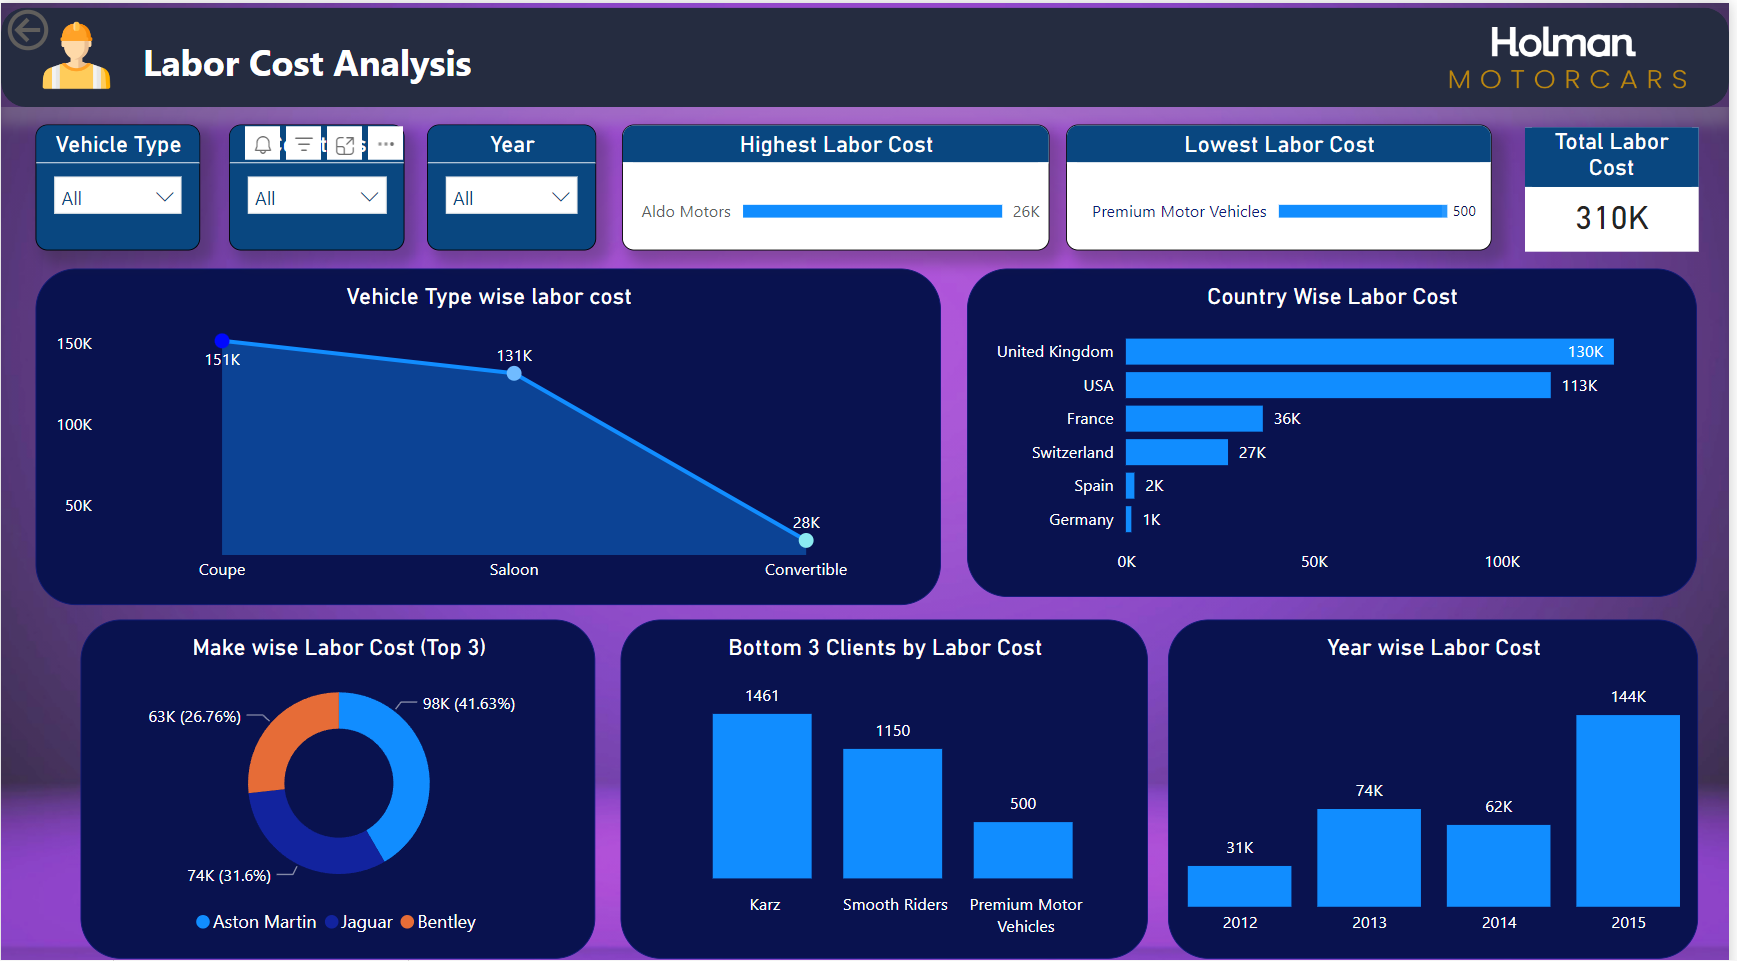

The page's visual inventory and layout, read from the dashboard file:
{"tool":"powerbi","page":{"name":"Labor Cost Analysis","canvas":[1280,720],"ordinal":2},"visuals":[{"type":"clusteredBarChart","title":"Country Wise Labor Cost","fields":{"Category":["BaseData.CountryName"],"Y":["BaseData.LaborCost"]},"box":[715.2,197.1,540.4,243.2],"z":0},{"type":"shape","box":[0,3.8,1280,73.8],"z":1000},{"type":"areaChart","title":"Vehicle Type wise labor cost","fields":{"Y":["BaseData.LaborCost"],"Category":["BaseData.VehicleType"]},"box":[25.4,197.1,670.7,249.5],"z":2000},{"type":"donutChart","title":"Make wise Labor Cost (Top 3)","fields":{"Y":["BaseData.LaborCost"],"Category":["BaseData.Make"]},"box":[58.8,456.2,381.5,251.1],"z":3000},{"type":"image","box":[25.7,4.3,60,68.6],"z":4000},{"type":"textbox","box":[100,20,300,70],"z":5000},{"type":"columnChart","title":"Year wise Labor Cost","fields":{"Category":["BaseData.ReportingYear"],"Y":["BaseData.LaborCost"]},"box":[864.6,456.2,392.6,251.1],"z":6000},{"type":"image","box":[1064.3,10,191.4,60],"z":7000},{"type":"slicer","title":"Vehicle Type","fields":{"Values":["BaseData.VehicleType"]},"box":[25,90,121.7,93.3],"z":8000},{"type":"slicer","title":"Countries","fields":{"Values":["BaseData.CountryName"]},"box":[168.3,90,130,93.3],"z":9000},{"type":"slicer","title":"Year","fields":{"Values":["BaseData.ReportingYear"]},"box":[315,90,125,93.3],"z":10000},{"type":"card","title":"Total Labor Cost","fields":{"Values":["BaseData.LaborCost"]},"box":[1128.3,91.7,128.3,91.7],"z":11000},{"type":"actionButton","box":[0,0,100,40],"z":12000},{"type":"barChart","title":"Highest Labor Cost","fields":{"Category":["BaseData.ClientName"],"Y":["BaseData.LaborCost"]},"box":[460,90,316.7,93.3],"z":13000},{"type":"barChart","title":"Lowest Labor Cost","fields":{"Category":["BaseData.ClientName"],"Y":["BaseData.LaborCost"]},"box":[788.3,90,315,93.3],"z":14000},{"type":"clusteredColumnChart","title":"Bottom 3 Clients by Labor Cost","fields":{"Category":["BaseData.ClientName"],"Y":["BaseData.LaborCost"]},"box":[459.3,456.2,391,251.1],"z":15000}]}

Visuals, with their boxes in screenshot pixels (x1, y1, x2, y2), scaled from the page's 1280x720 canvas onto the 1737x961 screenshot:
"Country Wise Labor Cost" clusteredBarChart: x1=971 y1=263 x2=1704 y2=588
shape: x1=0 y1=5 x2=1736 y2=104
"Vehicle Type wise labor cost" areaChart: x1=34 y1=263 x2=945 y2=596
"Make wise Labor Cost (Top 3)" donutChart: x1=80 y1=609 x2=598 y2=944
image: x1=35 y1=6 x2=116 y2=97
textbox: x1=136 y1=27 x2=543 y2=120
"Year wise Labor Cost" columnChart: x1=1173 y1=609 x2=1706 y2=944
image: x1=1444 y1=13 x2=1704 y2=93
"Vehicle Type" slicer: x1=34 y1=120 x2=199 y2=245
"Countries" slicer: x1=228 y1=120 x2=405 y2=245
"Year" slicer: x1=427 y1=120 x2=597 y2=245
"Total Labor Cost" card: x1=1531 y1=122 x2=1705 y2=245
actionButton: x1=0 y1=0 x2=136 y2=53
"Highest Labor Cost" barChart: x1=624 y1=120 x2=1054 y2=245
"Lowest Labor Cost" barChart: x1=1070 y1=120 x2=1497 y2=245
"Bottom 3 Clients by Labor Cost" clusteredColumnChart: x1=623 y1=609 x2=1154 y2=944
